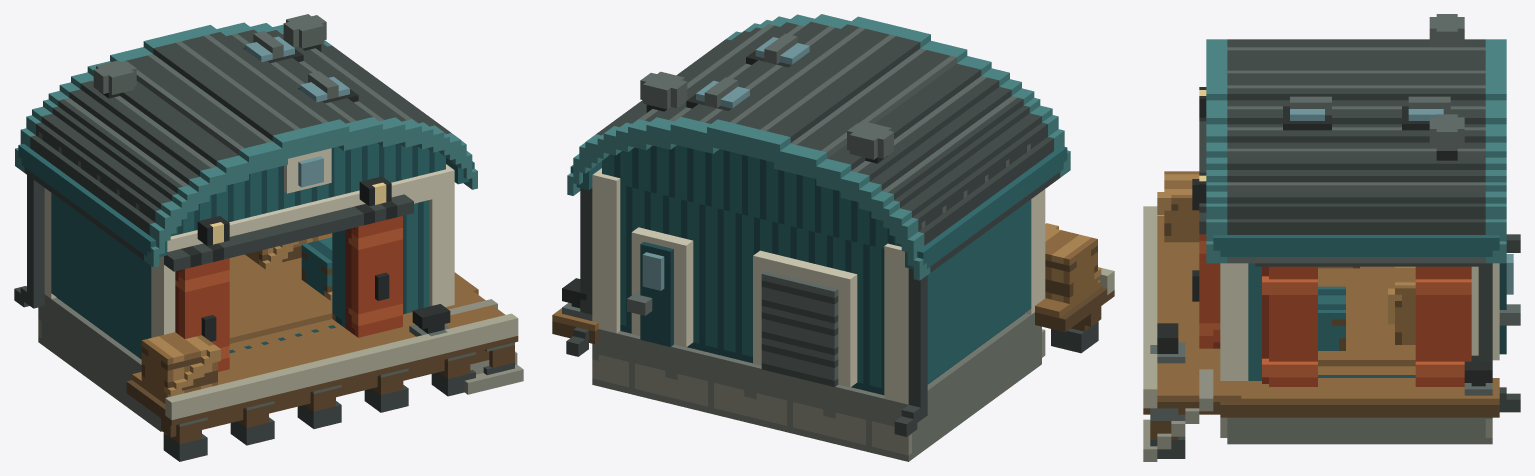
The model's file is warehouse.glb.
The picture shows the model from 3 angles, left to right: view 1: azimuth 30°, elevation 25°; view 2: azimuth 150°, elevation 25°; view 3: azimuth 270°, elevation 25°; orthographic projection. The views are drawn at different scales.
Visible parts, largest first — view 1: warehouse; view 2: warehouse; view 3: warehouse.
Part boxes in pixels (bbox=[...]): warehouse: bbox=[14, 14, 523, 461]; warehouse: bbox=[552, 14, 1114, 461]; warehouse: bbox=[1143, 14, 1520, 461].
Bounding box in the file's own units: 9.45 × 7.05 × 8.1.
